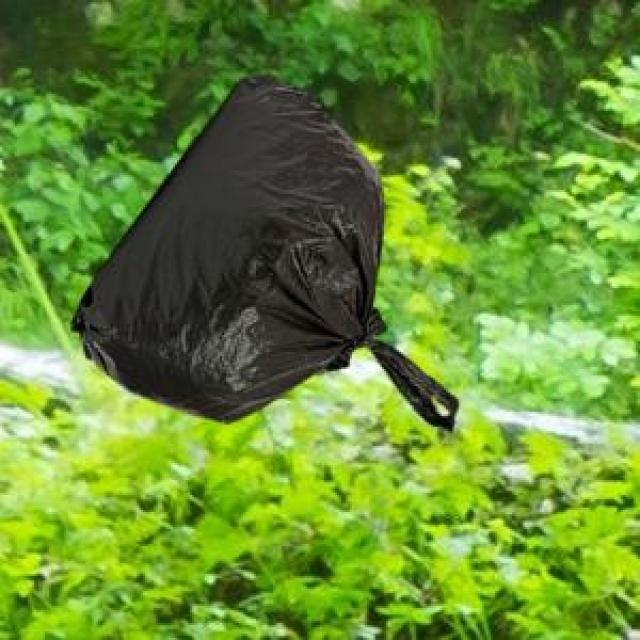waste: (72, 78, 459, 429)
